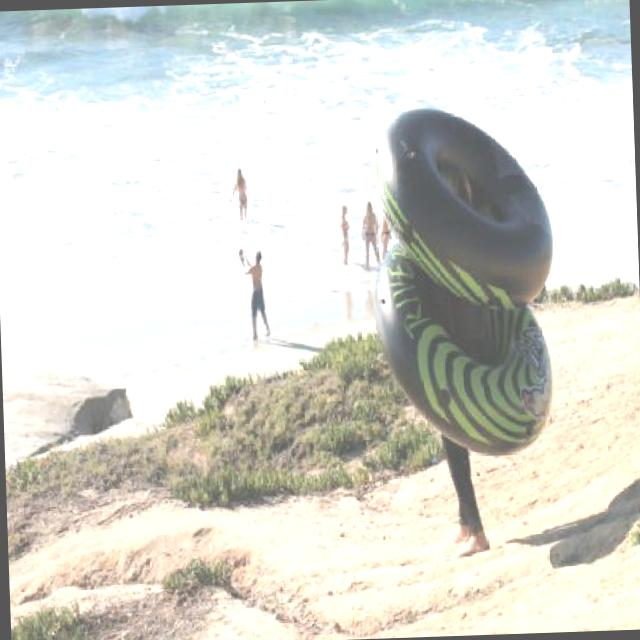Person: (434, 164, 486, 560), (238, 230, 274, 346), (361, 199, 378, 266), (336, 201, 352, 266), (231, 165, 248, 220), (374, 214, 394, 258)
